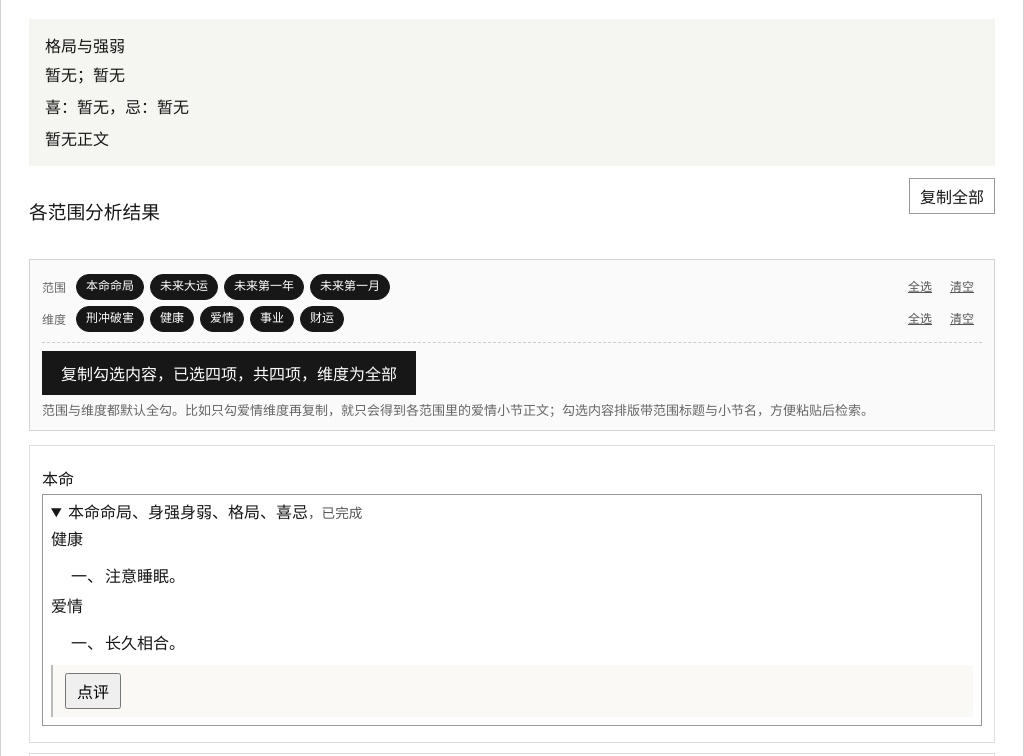
it: 复制回执的项数必须等于正文里真的有几项 › 默认全选：回执四项，正文确有四个范围
(page scrolled)
Step 1. Click the button "复制勾选内容" → (229, 373), box 42,351 -> 416,395
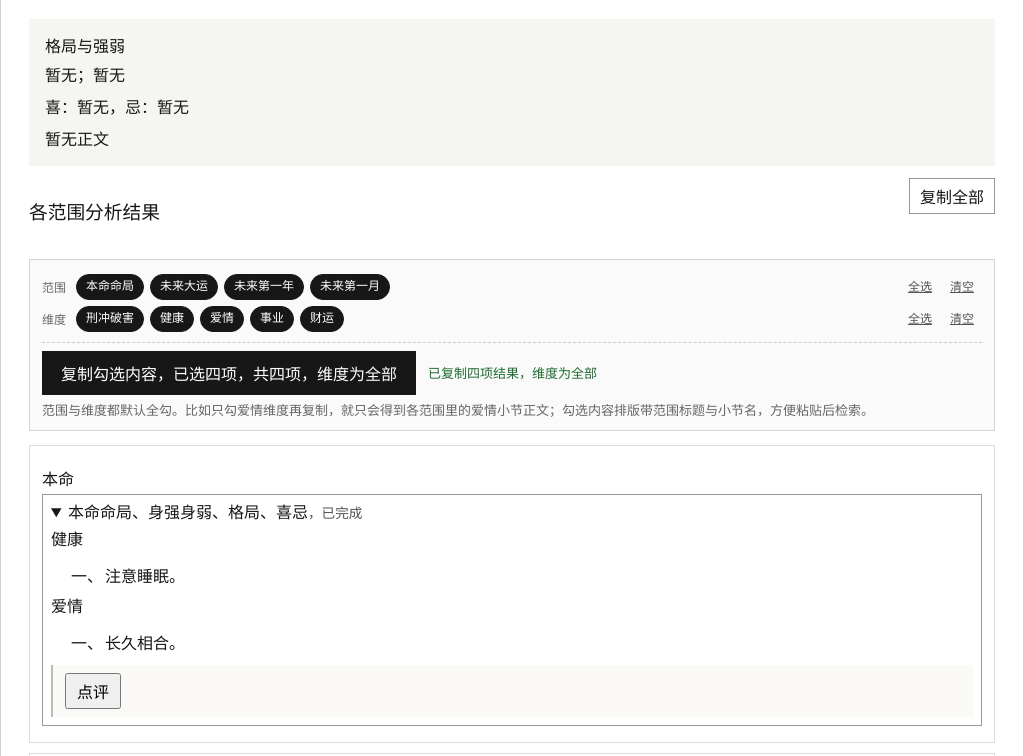
Now the 2nd message shows "已复制四项结果", box 428,366 -> 597,381
